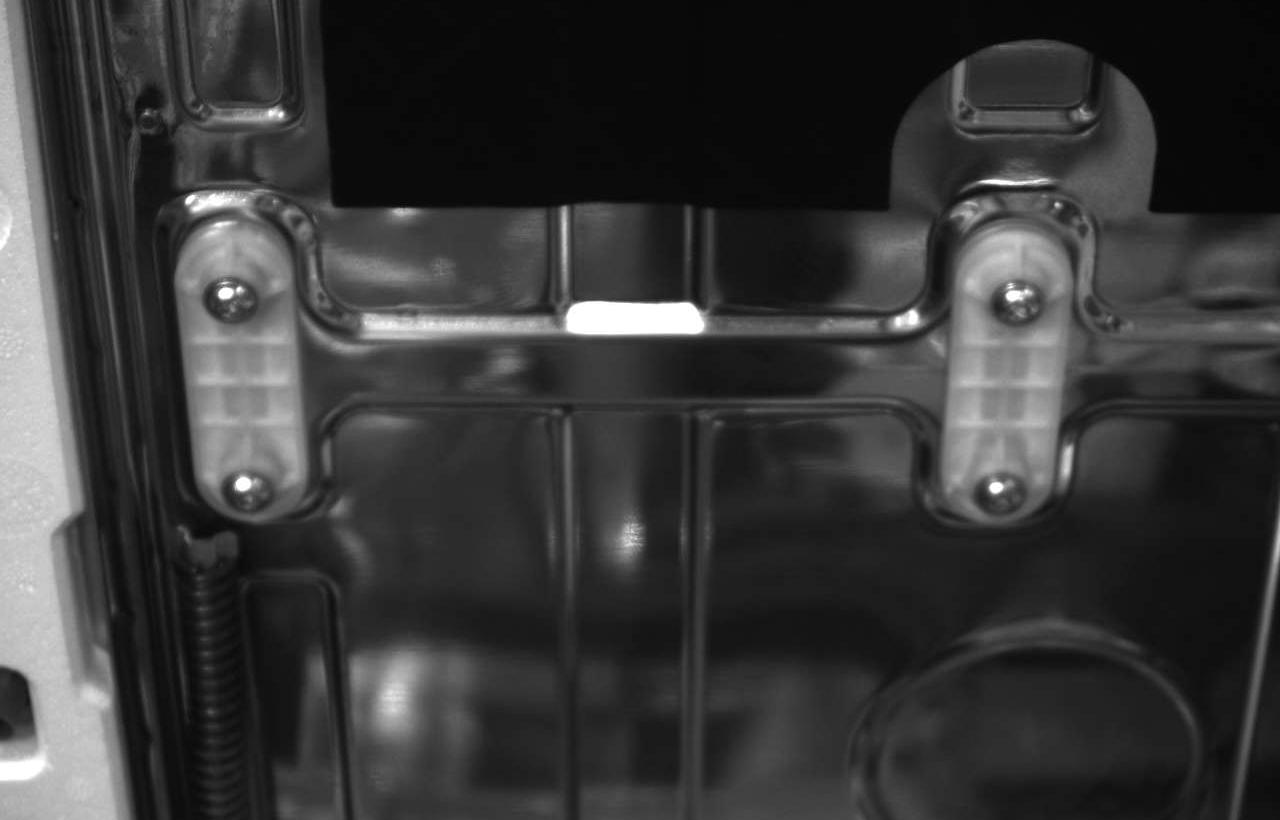vida-ok: (192, 262, 279, 340), (978, 264, 1065, 337), (213, 457, 294, 522), (970, 461, 1045, 520)
